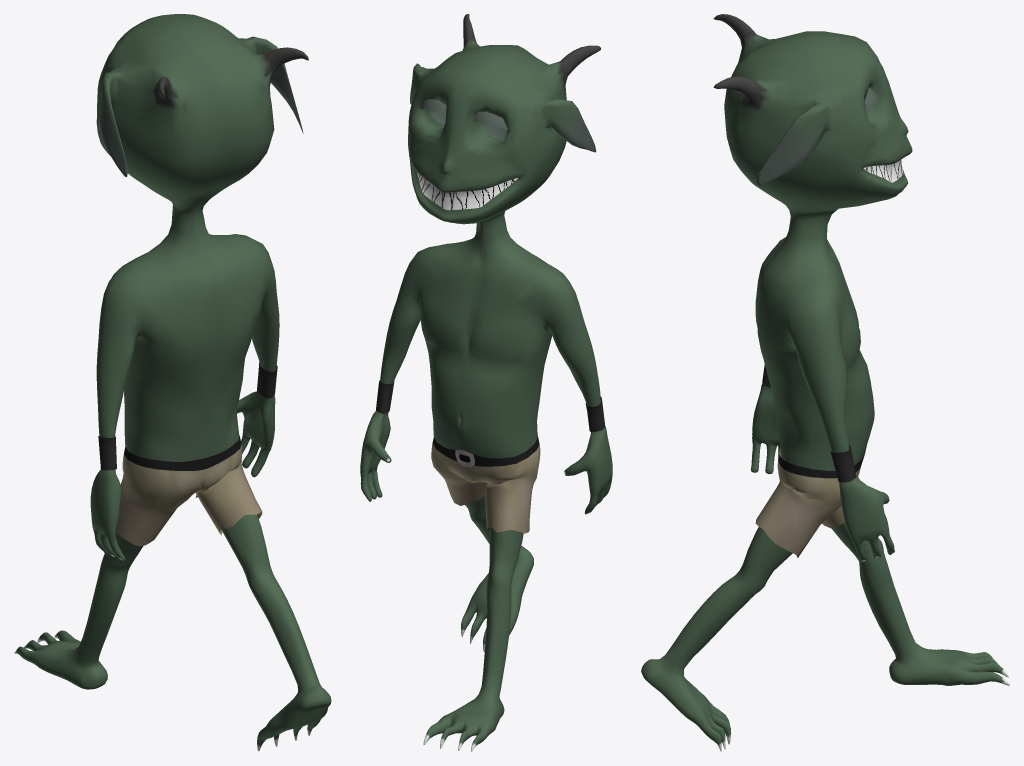
Rendered from lwjglcharactergoblin11_000015.obj.
3 renders of one model, left to right at view 1: azimuth 30°, elevation 25°; view 2: azimuth 150°, elevation 25°; view 3: azimuth 270°, elevation 25°, orthographic. The views are drawn at different scales.
Parts seen in each view (by area): view 1: Cube.002; view 2: Cube.002; view 3: Cube.002.
Boxes of the visible parts, box(x1,y1,x2,y2) form: Cube.002: box(14, 14, 331, 751); Cube.002: box(360, 14, 612, 751); Cube.002: box(641, 14, 1009, 751).
Bounding box in the file's own units: 1.25 × 3.83 × 1.87.
